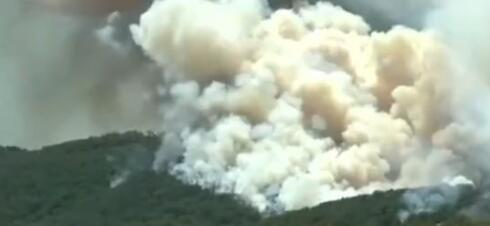smoke: (105, 0, 490, 215)
